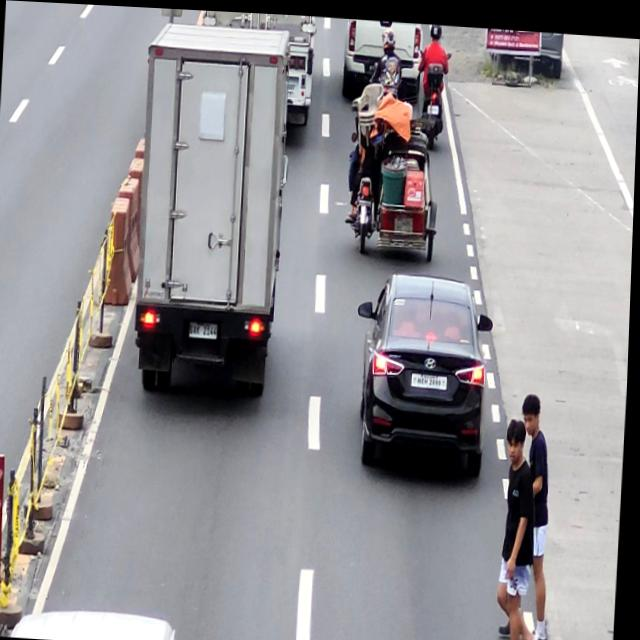Car: (351, 265, 498, 480), (341, 14, 424, 100)
License-Plate: (189, 318, 220, 336), (414, 368, 450, 383), (427, 101, 439, 110)
Motorcycle: (415, 41, 452, 144)
Tricycle: (347, 128, 443, 258)
Truck: (129, 18, 293, 401), (196, 8, 317, 133)
